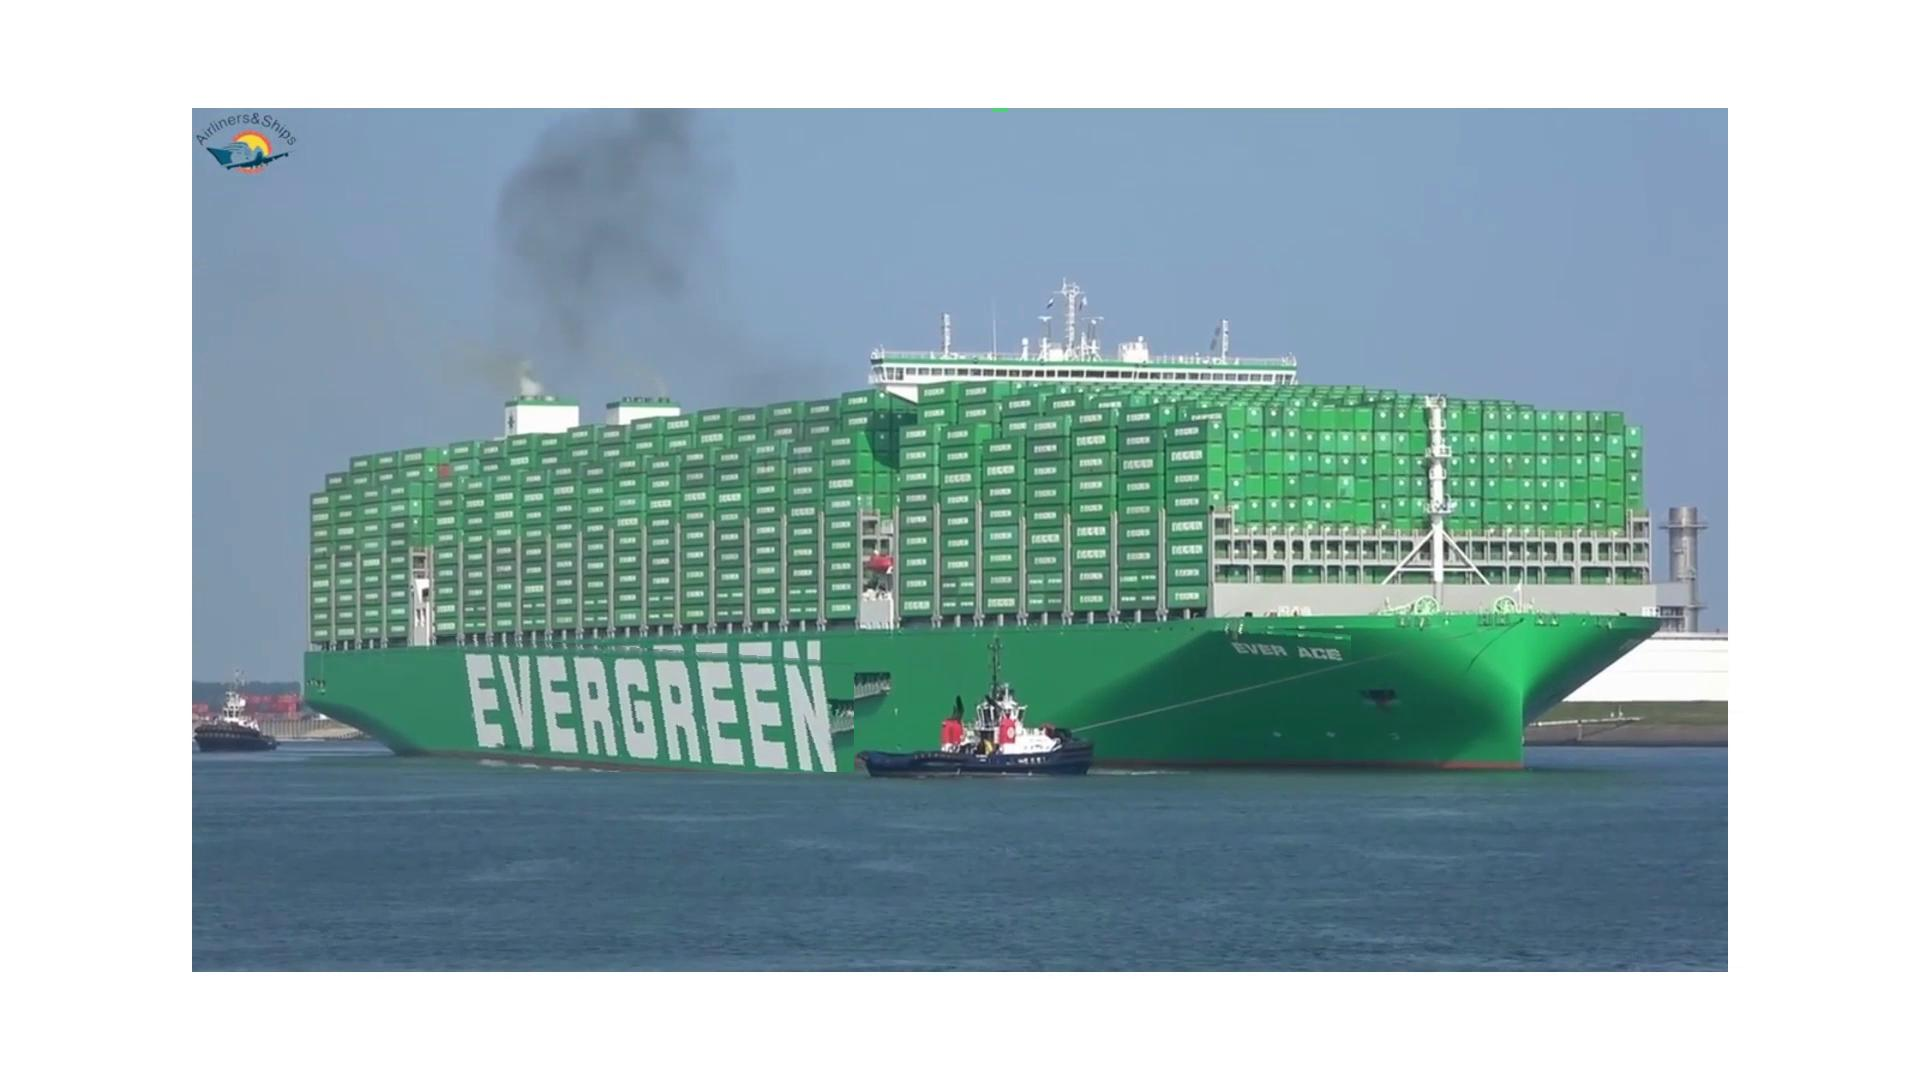OCR: (434, 634, 853, 771), (1205, 622, 1352, 662)
